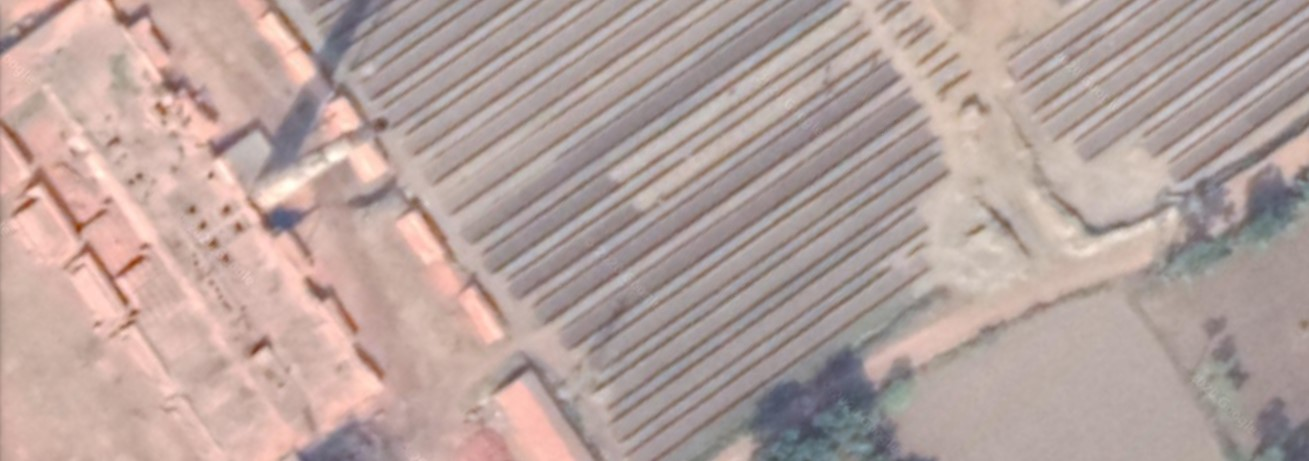kiln: (14, 5, 479, 407)
